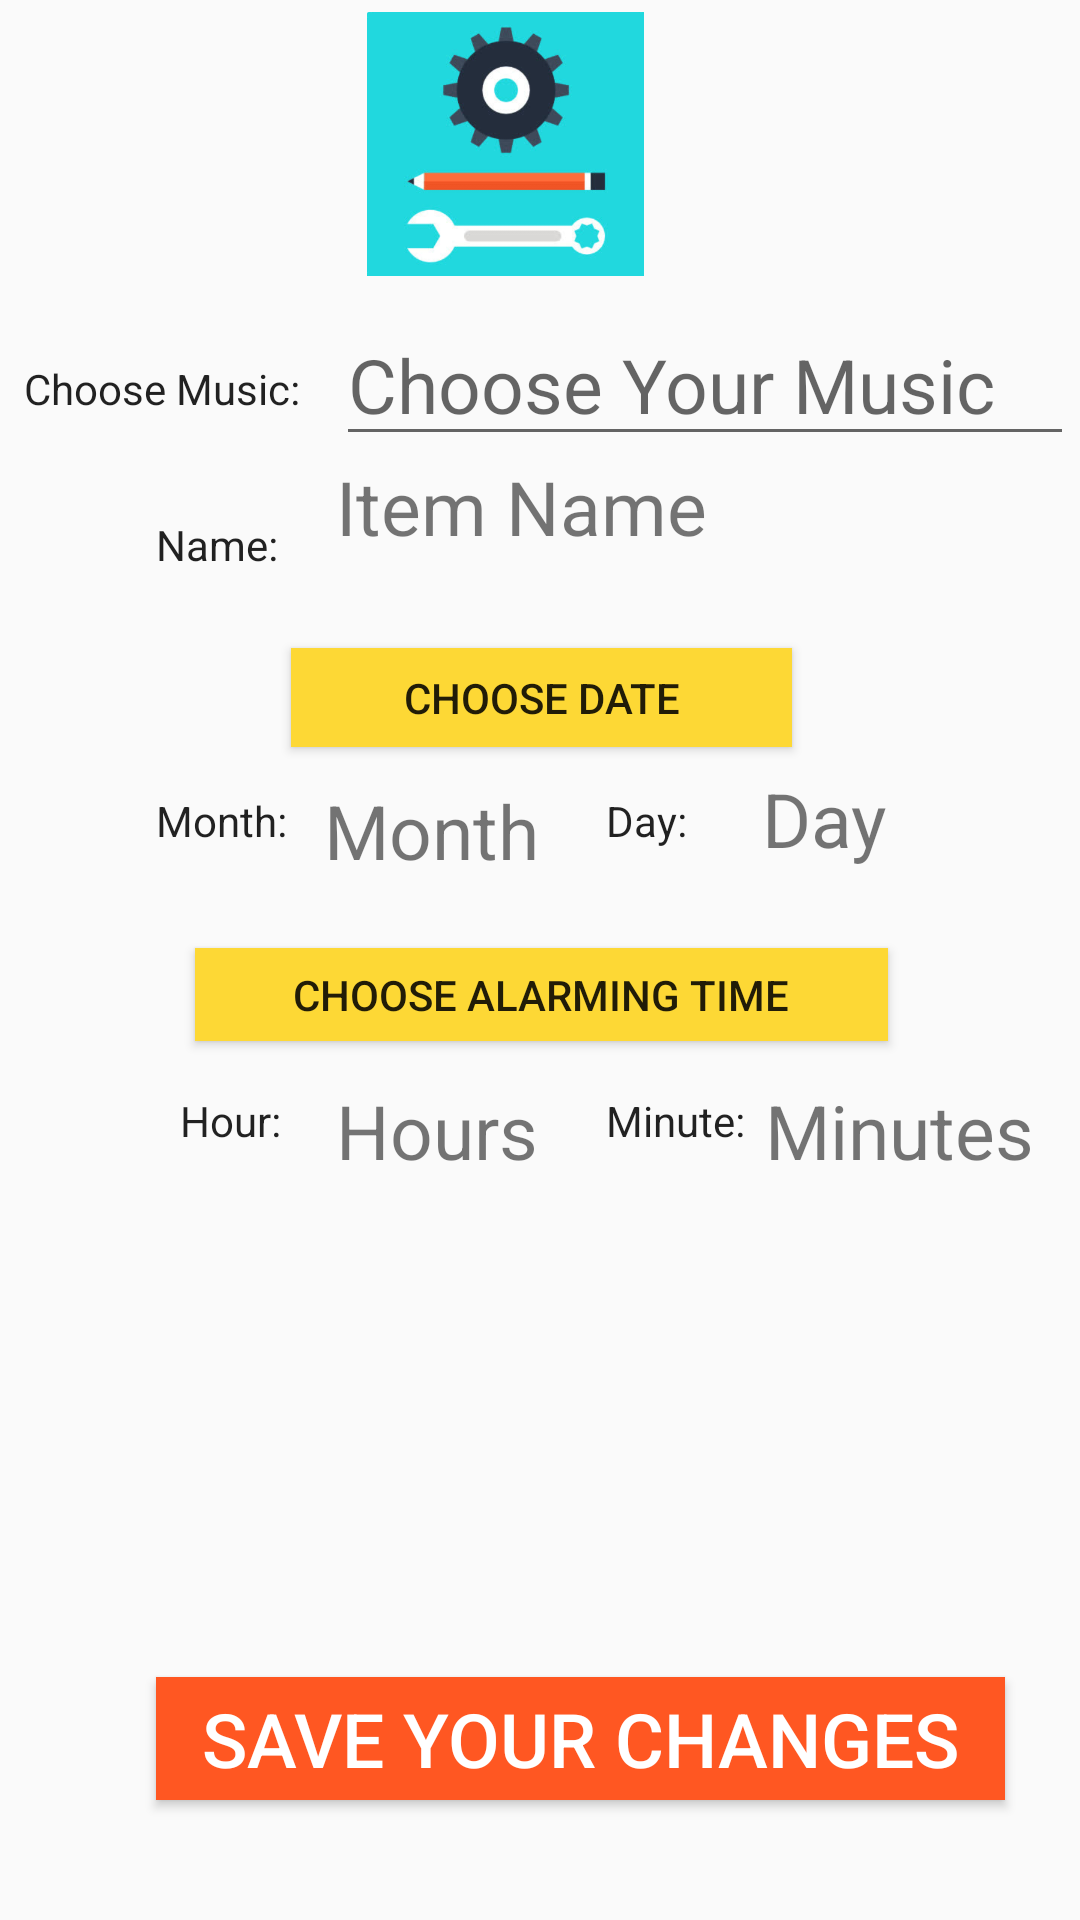

Icons on this 1080w x 1920h Android screen, each with its box as box=[x1, y1, x2, y2]:
gear: box=[367, 12, 644, 276]
